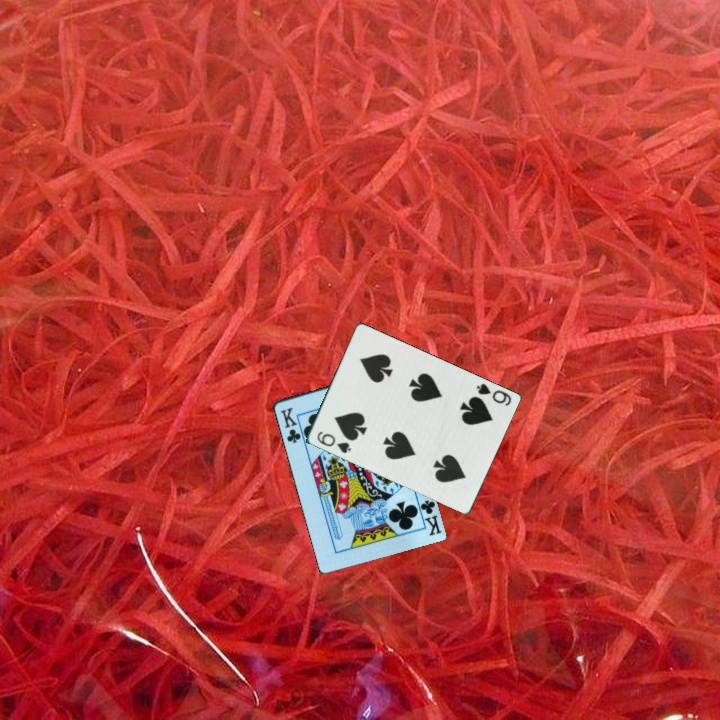6s: (472, 380, 514, 409), (313, 428, 354, 456)
Kc: (413, 494, 444, 538), (277, 404, 303, 446)
